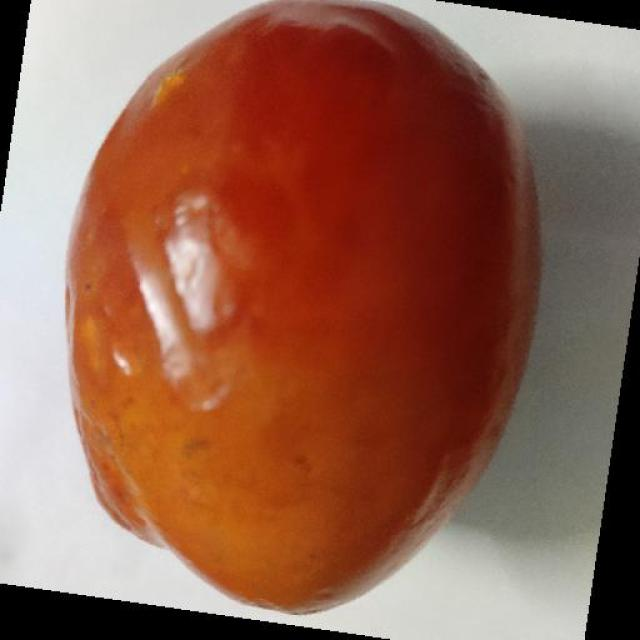Stale_tomato: (78, 8, 550, 615)
